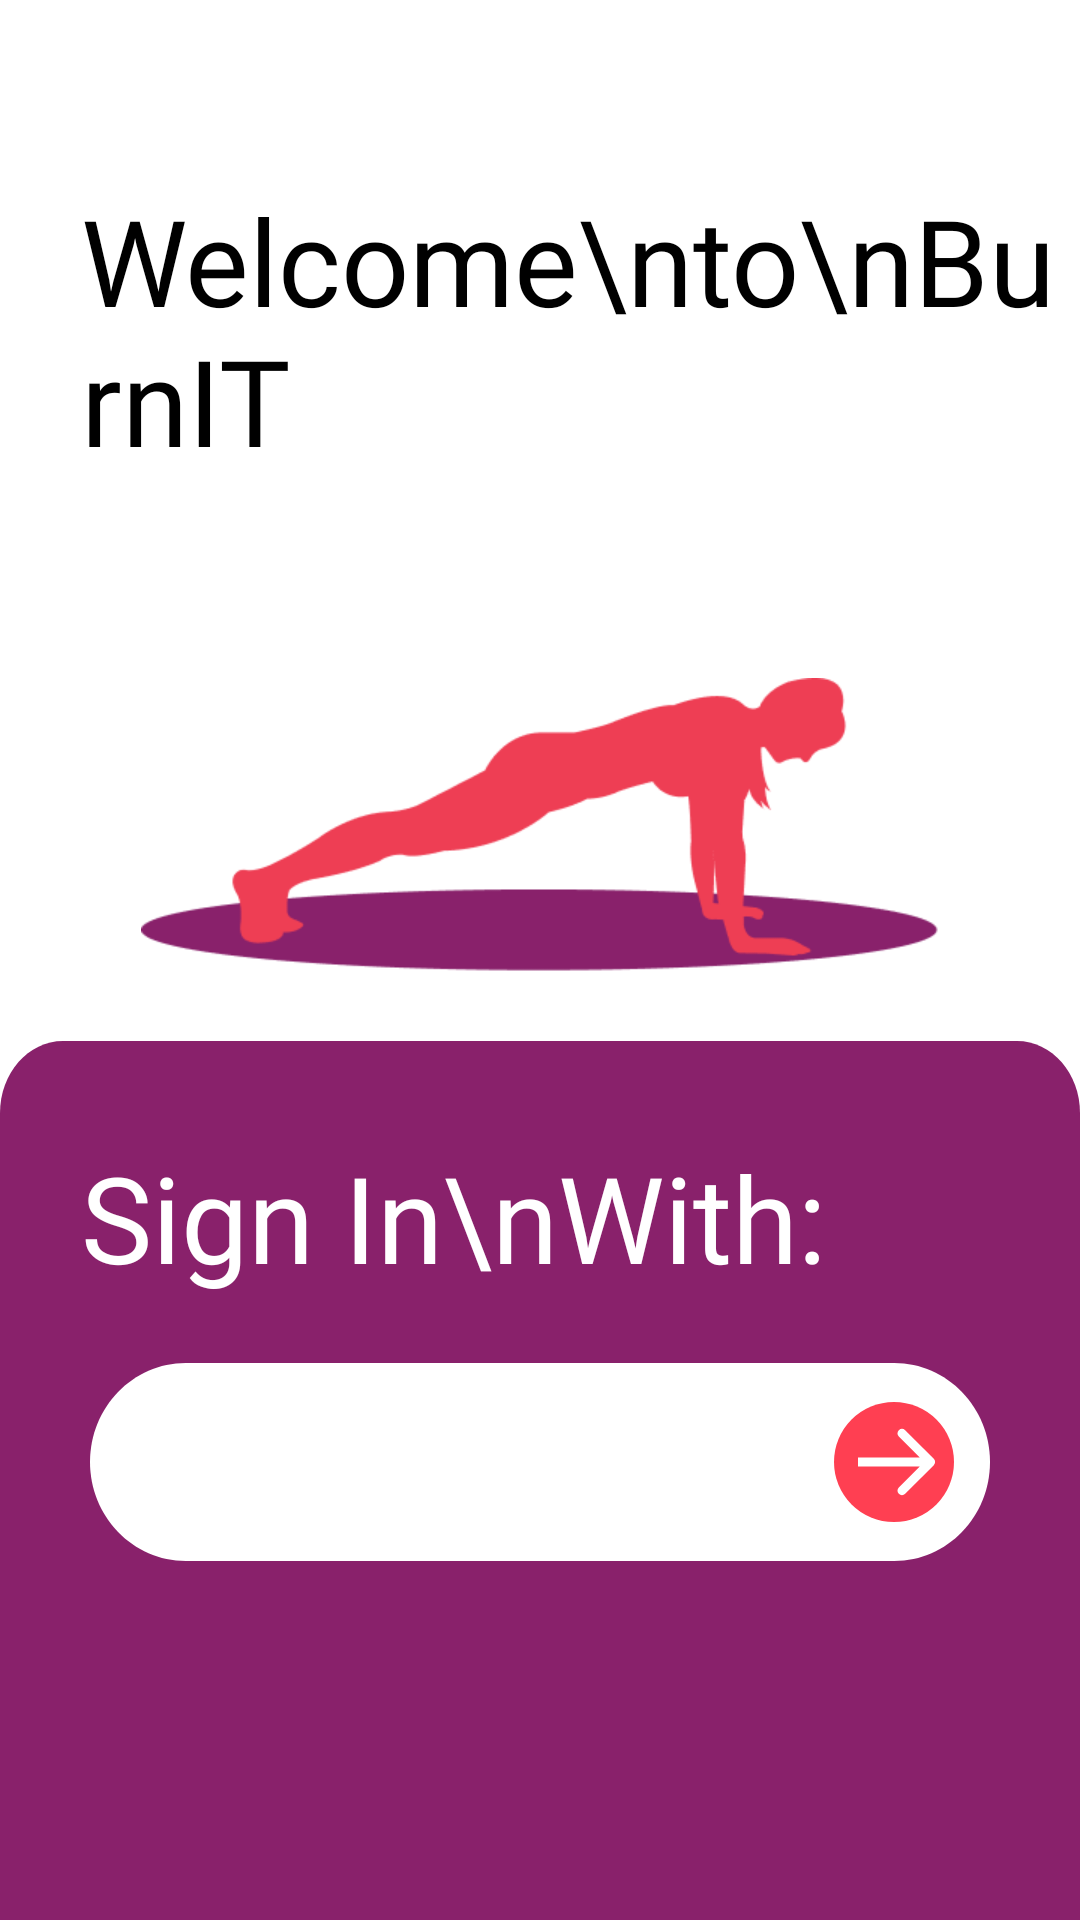

Point at icon controls on the screen. Image size 1080w x 1920h, points as [x,y].
next: [894,1462]
